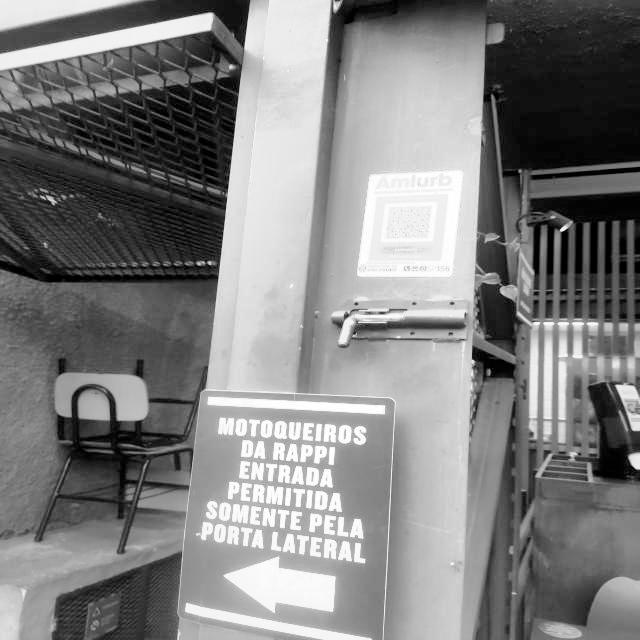qr_code: (386, 206, 431, 238)
